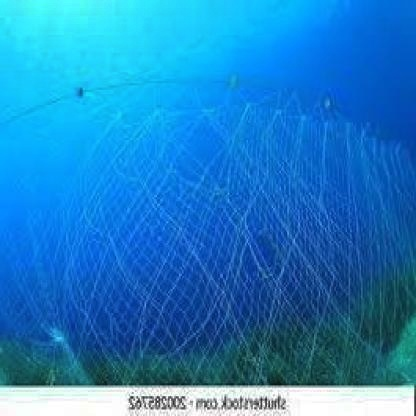net: (9, 94, 410, 385)
